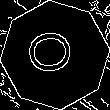O_E: (28, 31, 82, 79)
